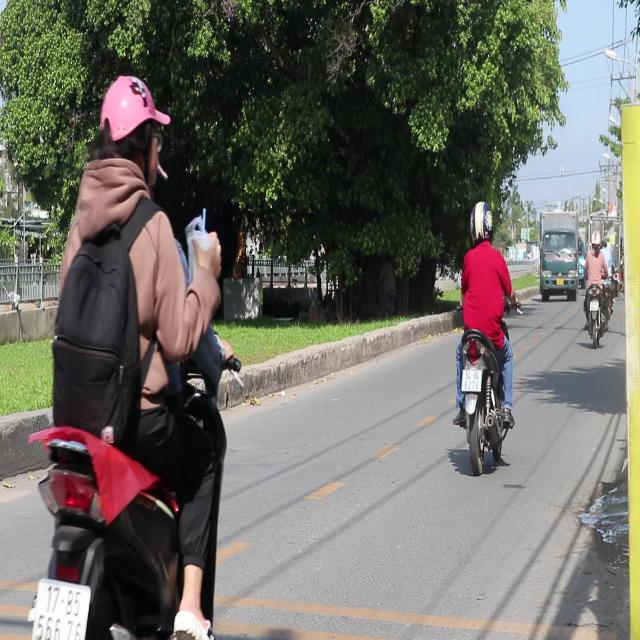helmet: (95, 74, 172, 186), (469, 200, 494, 245)
licenseplate: (22, 70, 240, 640), (448, 201, 519, 473)
nohelmet: (32, 581, 90, 638), (461, 369, 482, 392)
